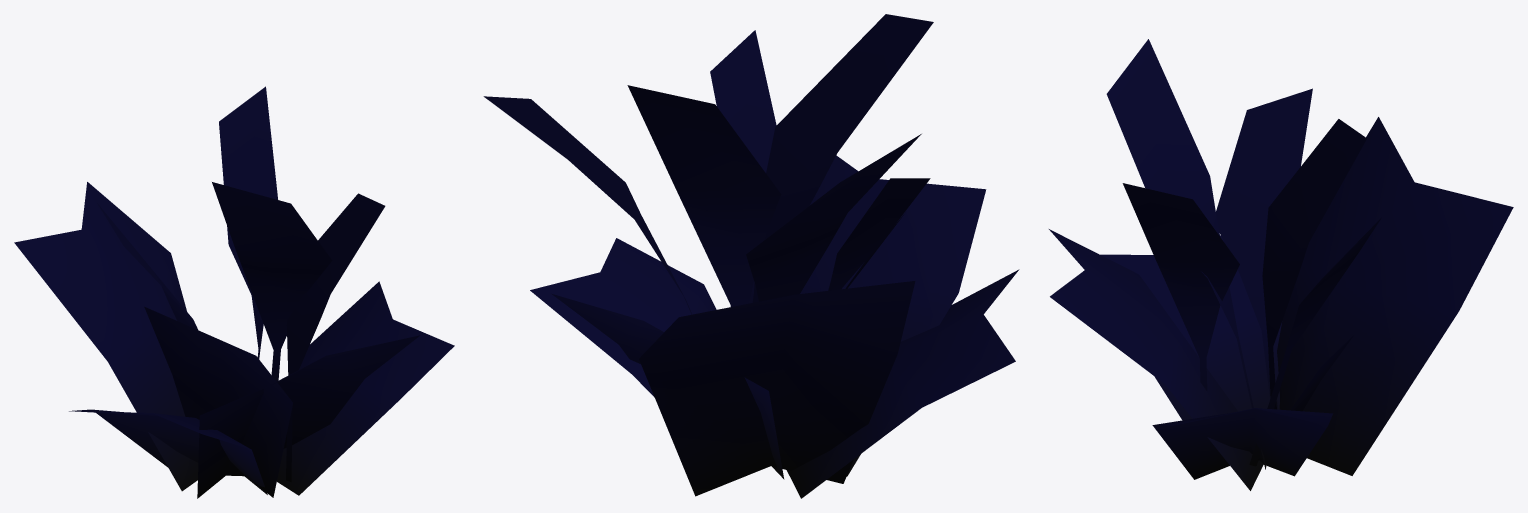
File: SM_Foliage_ReedB_04.fbx
3 renders of one model, left to right at view 1: azimuth 30°, elevation 25°; view 2: azimuth 150°, elevation 25°; view 3: azimuth 270°, elevation 25°, orthographic. The views are drawn at different scales.
Parts seen in each view (by area): view 1: SM_Foliage_ReedB_04; view 2: SM_Foliage_ReedB_04; view 3: SM_Foliage_ReedB_04.
Boxes of the visible parts, x1,y1,x2,y2 form: SM_Foliage_ReedB_04: (14, 86, 454, 498); SM_Foliage_ReedB_04: (483, 14, 1019, 498); SM_Foliage_ReedB_04: (1049, 39, 1513, 490).
Bounding box in the file's own units: 119 × 123 × 115.
